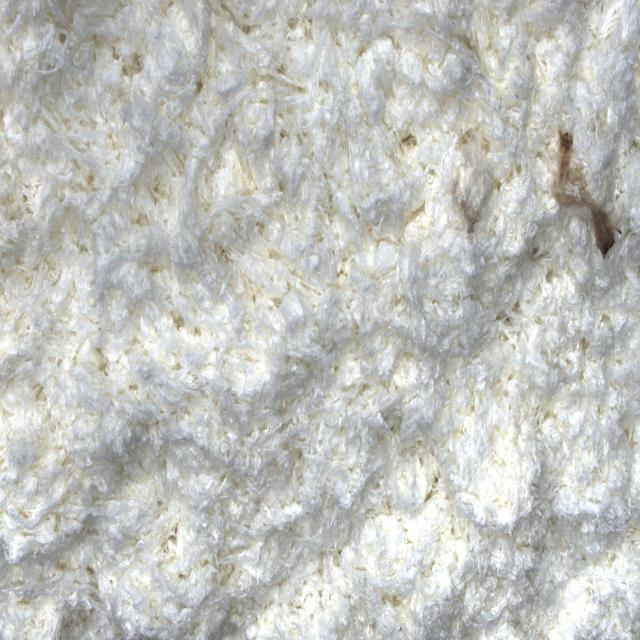dust: (581, 191, 626, 285), (555, 129, 589, 221)
